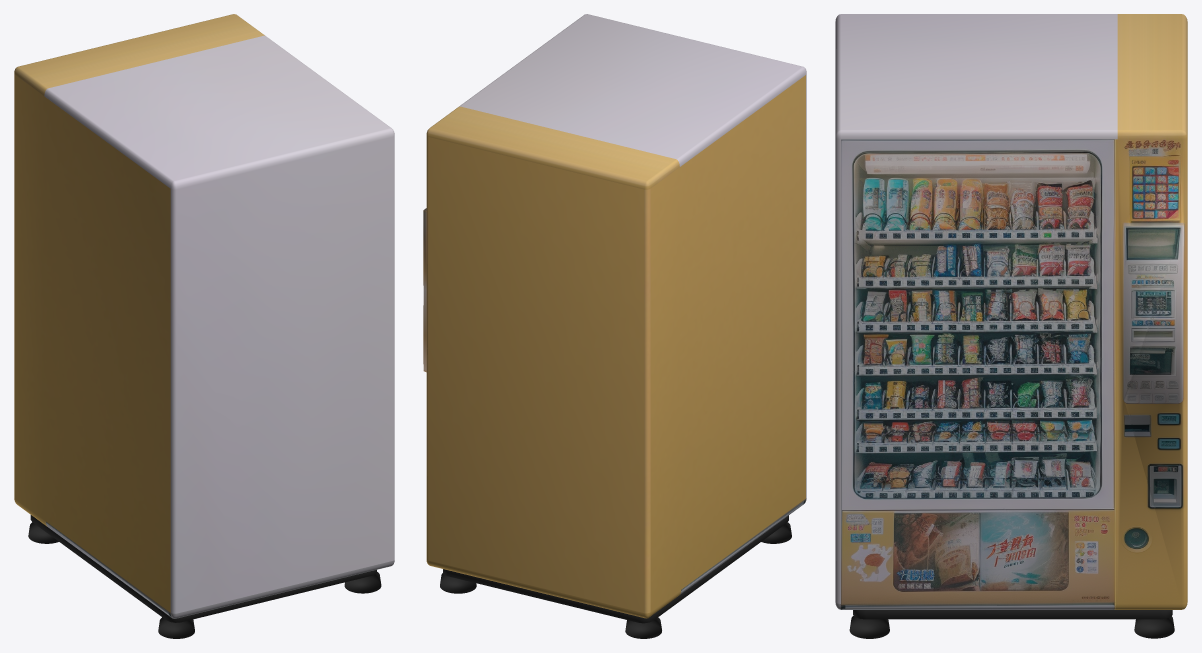
File: vending_machine_2.glb
3 renders of one model, left to right at view 1: azimuth 30°, elevation 25°; view 2: azimuth 150°, elevation 25°; view 3: azimuth 270°, elevation 25°, orthographic. The views are drawn at different scales.
Visible parts, largest first — view 1: vending machine; view 2: vending machine; view 3: vending machine.
Boxes of the visible parts, x1,y1,x2,y2 form: vending machine: (14,14,394,638); vending machine: (423,14,806,638); vending machine: (835,14,1187,638).
Bounding box in the file's own units: 1.18 × 2.3 × 1.44.
2 materials, 1 textured.
